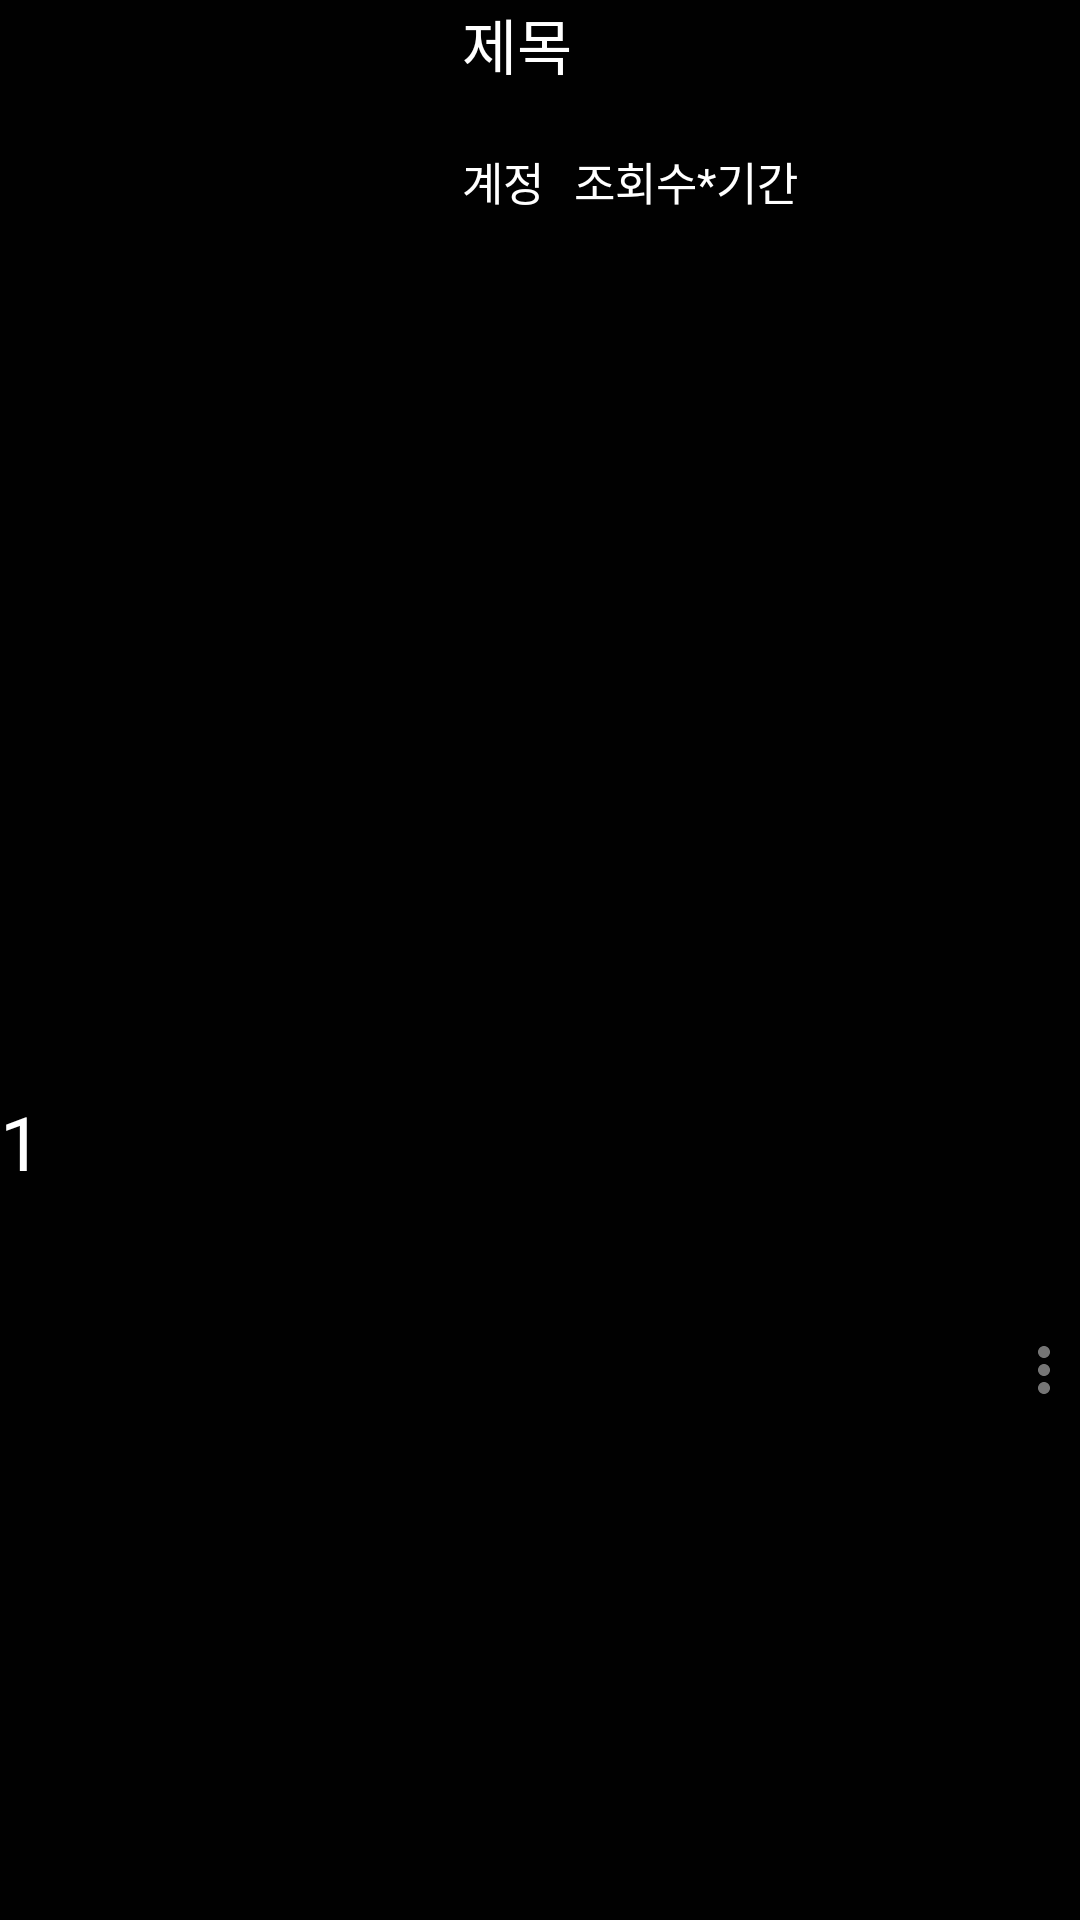

Named icons in this screenshot (1080*1920) and their centers, [x,y]:
more vert: [1044,1370]
